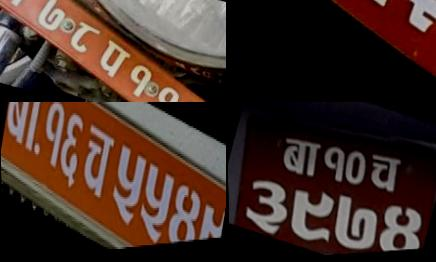0: (337, 143, 373, 199)
1: (36, 102, 68, 177), (315, 139, 351, 193), (122, 59, 160, 102), (147, 83, 184, 102)
3: (234, 167, 297, 244), (387, 0, 436, 49), (170, 96, 204, 102)
4: (368, 198, 430, 254), (162, 177, 204, 248)
5: (106, 135, 150, 238), (134, 157, 176, 250)
6: (54, 104, 88, 195)
7: (324, 192, 383, 257), (32, 0, 71, 38)
8: (64, 14, 104, 64)
9: (279, 180, 342, 256), (189, 194, 225, 245)
ba: (274, 130, 326, 190), (0, 102, 47, 165), (0, 0, 41, 11)
cha: (76, 117, 117, 213), (359, 145, 408, 206)
pa: (91, 36, 138, 86)
